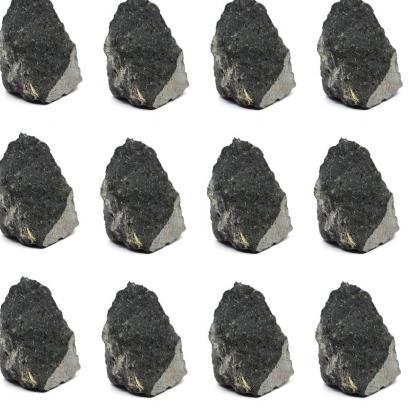Igneous_Basalt: (312, 269, 410, 396), (307, 0, 410, 118), (202, 272, 296, 399), (203, 132, 295, 258), (0, 264, 86, 394), (312, 138, 406, 252), (101, 275, 184, 401), (211, 0, 298, 115), (0, 130, 82, 252), (97, 140, 189, 248), (0, 0, 90, 105), (104, 0, 190, 108)
